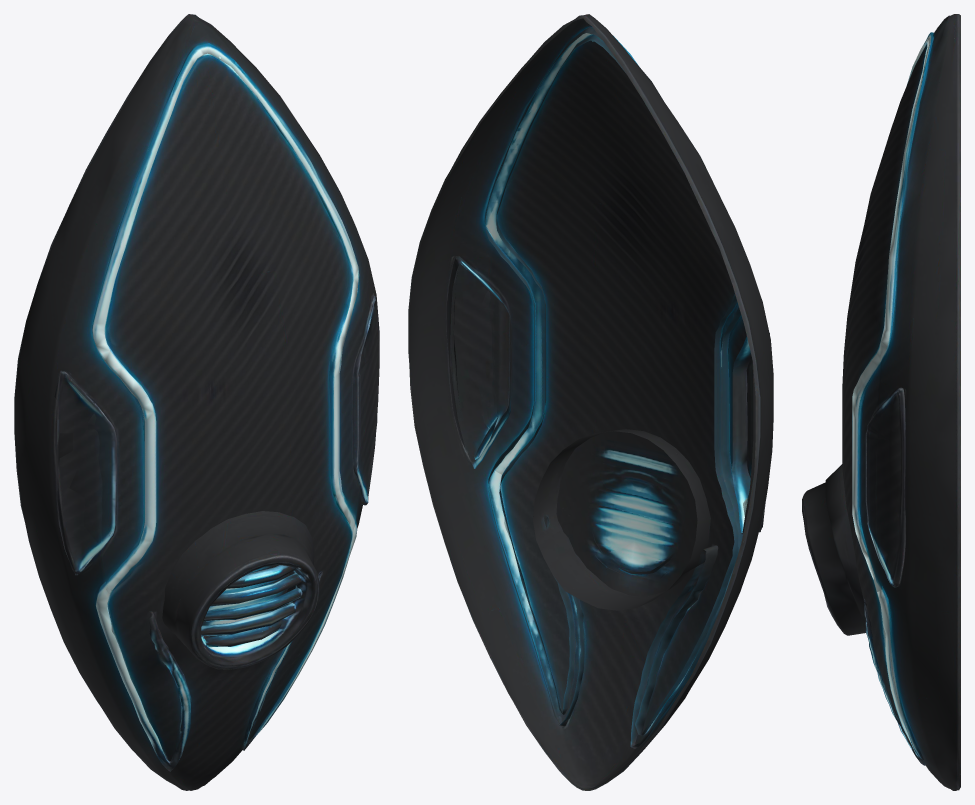
3 views of the same model, side by side, from view 1: azimuth 30°, elevation 25°; view 2: azimuth 150°, elevation 25°; view 3: azimuth 270°, elevation 25° (orthographic).
Parts seen in each view (by area): view 1: tripo_node_3f81da67-2a93-45ad-a3e0-ec91f6d14289; view 2: tripo_node_3f81da67-2a93-45ad-a3e0-ec91f6d14289; view 3: tripo_node_3f81da67-2a93-45ad-a3e0-ec91f6d14289.
Part boxes in pixels (x1,y1,x2,y2): tripo_node_3f81da67-2a93-45ad-a3e0-ec91f6d14289: [14, 14, 379, 790]; tripo_node_3f81da67-2a93-45ad-a3e0-ec91f6d14289: [408, 14, 773, 790]; tripo_node_3f81da67-2a93-45ad-a3e0-ec91f6d14289: [802, 14, 960, 790].
Bounding box in the file's own units: 0.4746 × 0.998 × 0.1855.
1 material, 1 textured.
